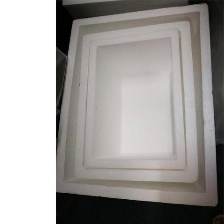foam_box: (56, 0, 221, 209)
